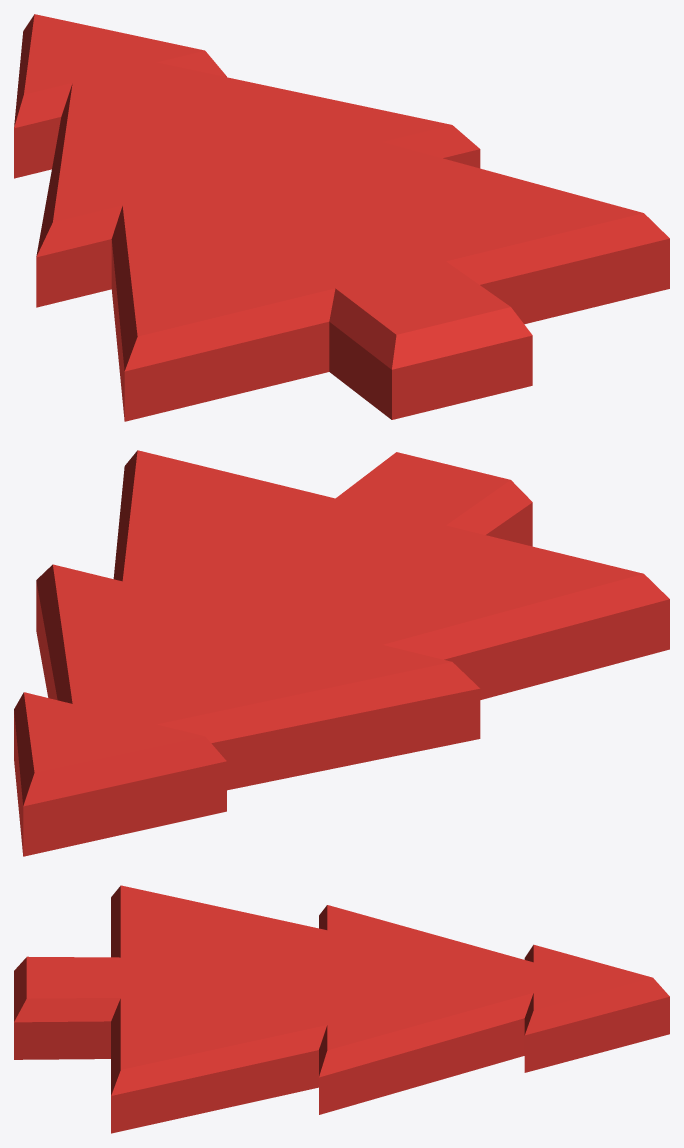
Rendered from SM_Gingerbread_Tree_A.fbx.
3 views of the same model, one above another, from view 1: azimuth 30°, elevation 25°; view 2: azimuth 150°, elevation 25°; view 3: azimuth 270°, elevation 25° (orthographic). The views are drawn at different scales.
Parts seen in each view (by area): view 1: gingerbread-tree-a; view 2: gingerbread-tree-a; view 3: gingerbread-tree-a.
Part boxes in pixels (box(x1,y1,x2,y2)): gingerbread-tree-a: box(14, 14, 669, 421); gingerbread-tree-a: box(14, 450, 669, 856); gingerbread-tree-a: box(14, 885, 669, 1133).
Bounding box in the file's own units: 0.0495 × 0.00656 × 0.069.
